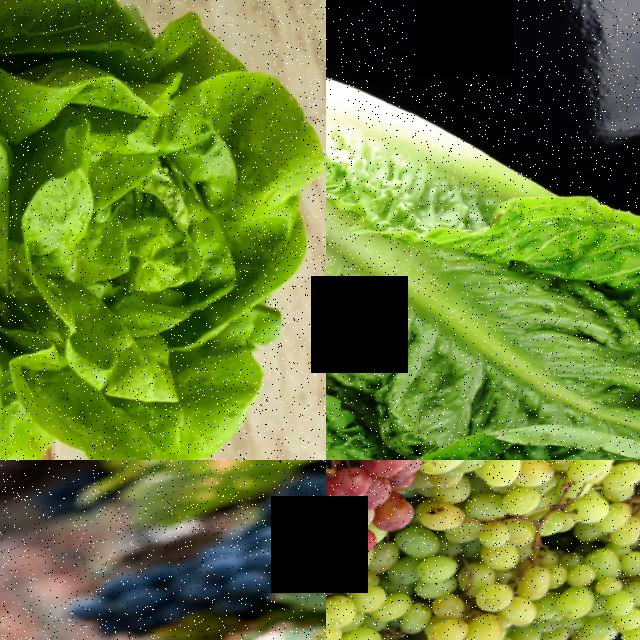grapes: (410, 460, 640, 570), (427, 524, 640, 640), (326, 460, 455, 591), (326, 555, 467, 640)
lettuce: (0, 0, 326, 460), (326, 138, 640, 460)
